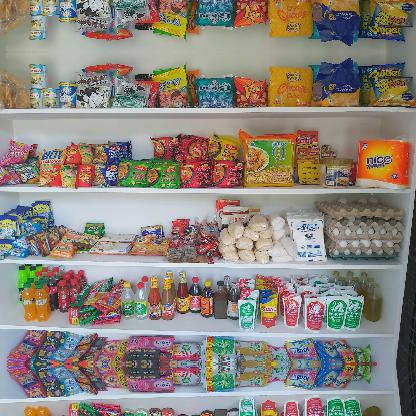Lady-s-Choice: (320, 158, 352, 188)
